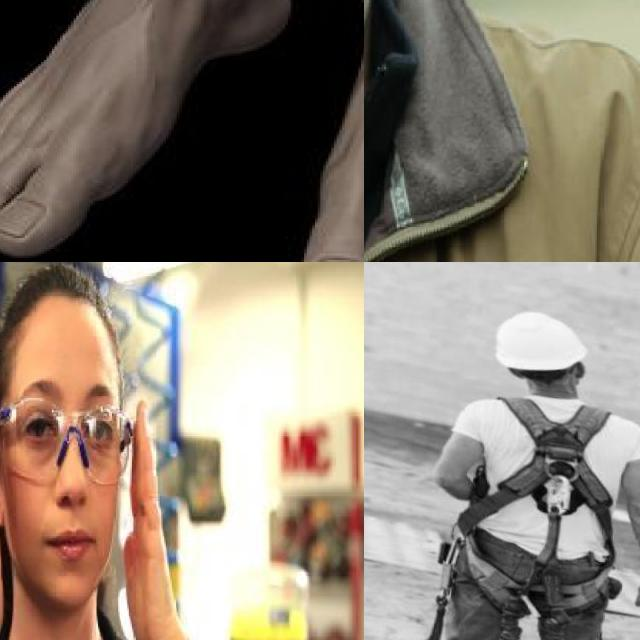Barefoots: (0, 0, 303, 259)
Harness: (459, 399, 615, 564)
face_nomask: (8, 388, 116, 579)
glasses: (0, 394, 137, 491)
hand_noglove: (111, 391, 193, 640)
head_nohelmet: (0, 262, 121, 355)
person: (0, 262, 222, 640)
